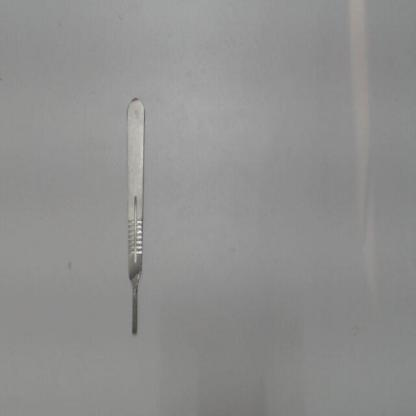No.4 BP Handle: (122, 86, 148, 341)
